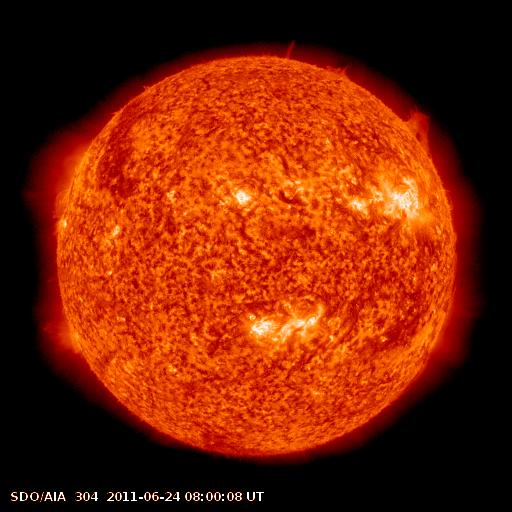prominence: (401, 97, 437, 159), (44, 183, 79, 217), (321, 56, 357, 85), (277, 32, 305, 65)
